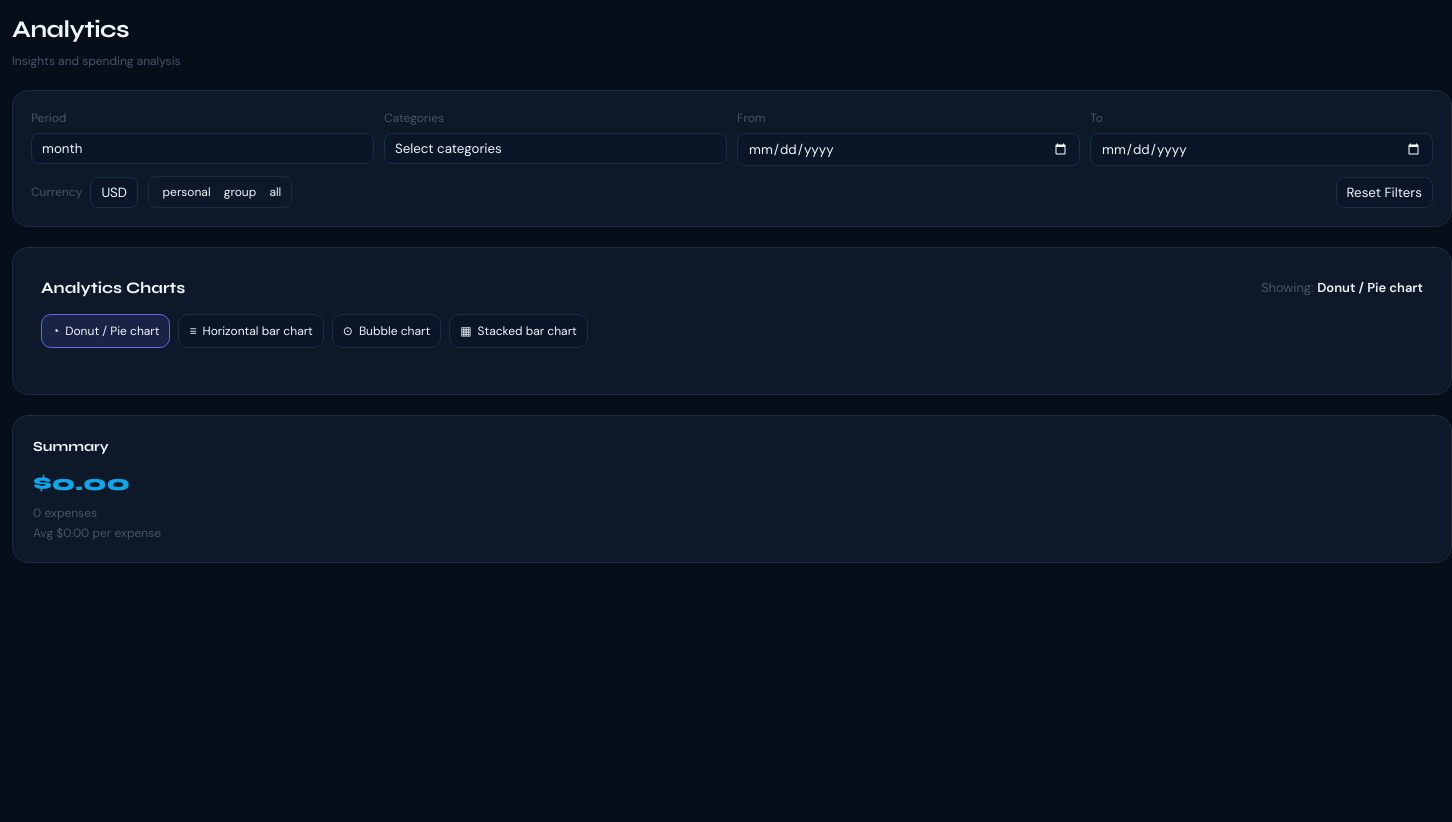
Test: Analytics Filters UI › shows check icon when category is selected and renders a removal tag
# Open dropdown
Click the button with aria-label "Categories filter" at (448, 148), box [384,133,727,164]
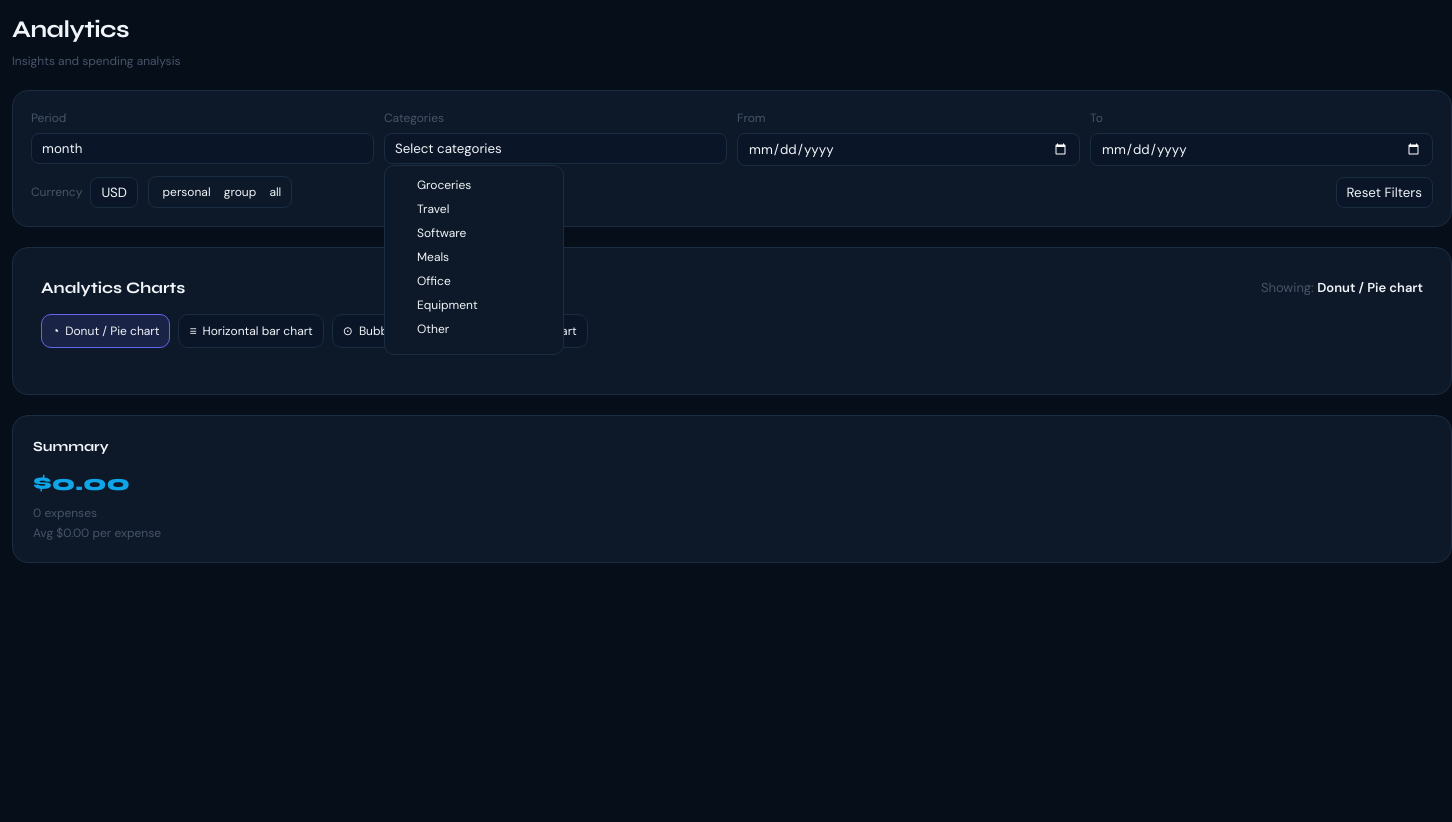
# Select 'Office' from the dropdown list
Click the checkbox "Office" at (434, 281), box [417,273,451,289]
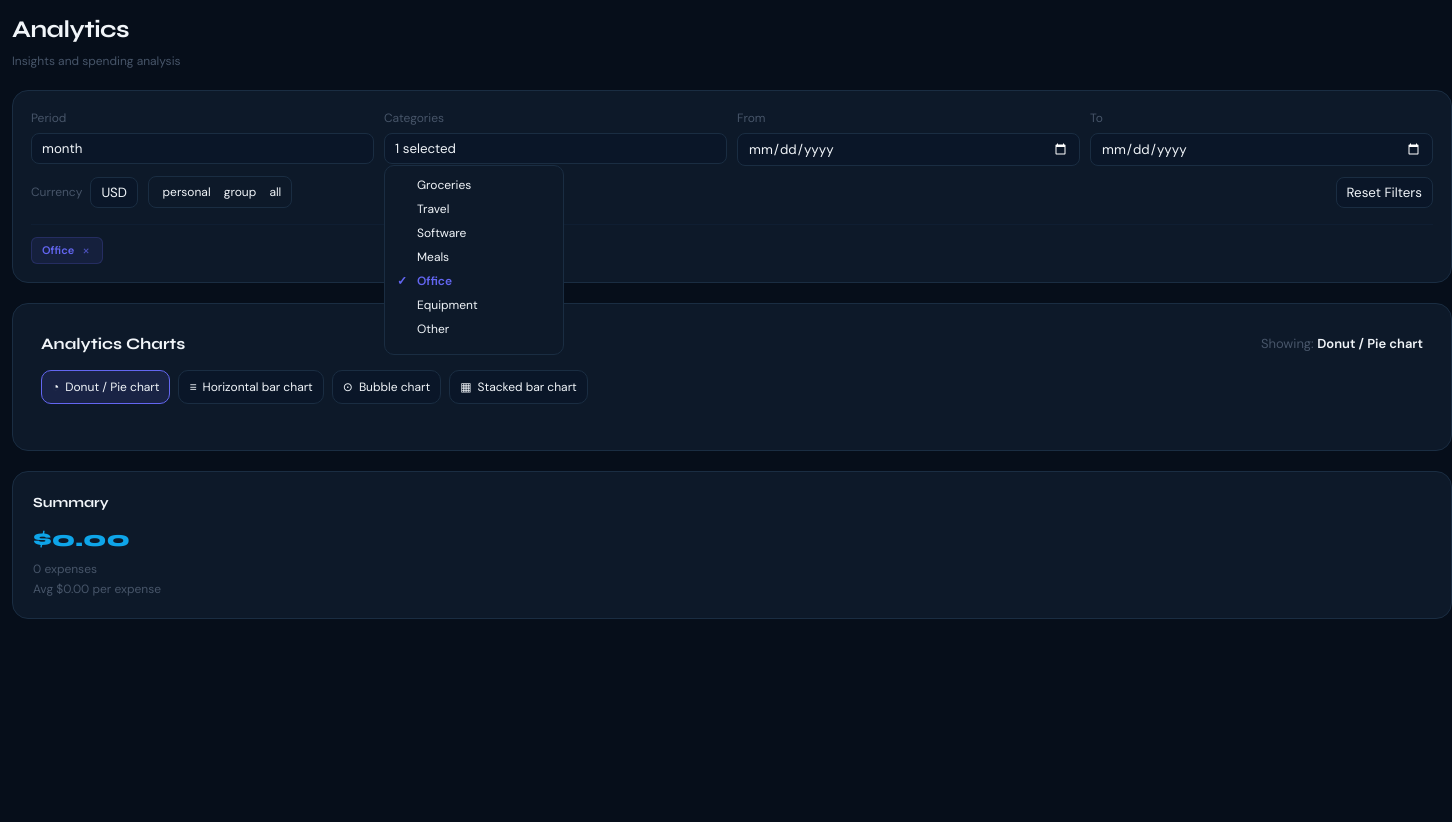
Now the text "✓" is shown, box [397,273,407,289]
Now the button named "Remove Office" is shown
# Remove via tag button
Click the button named "Remove Office" at (86, 250), box [80,243,92,257]
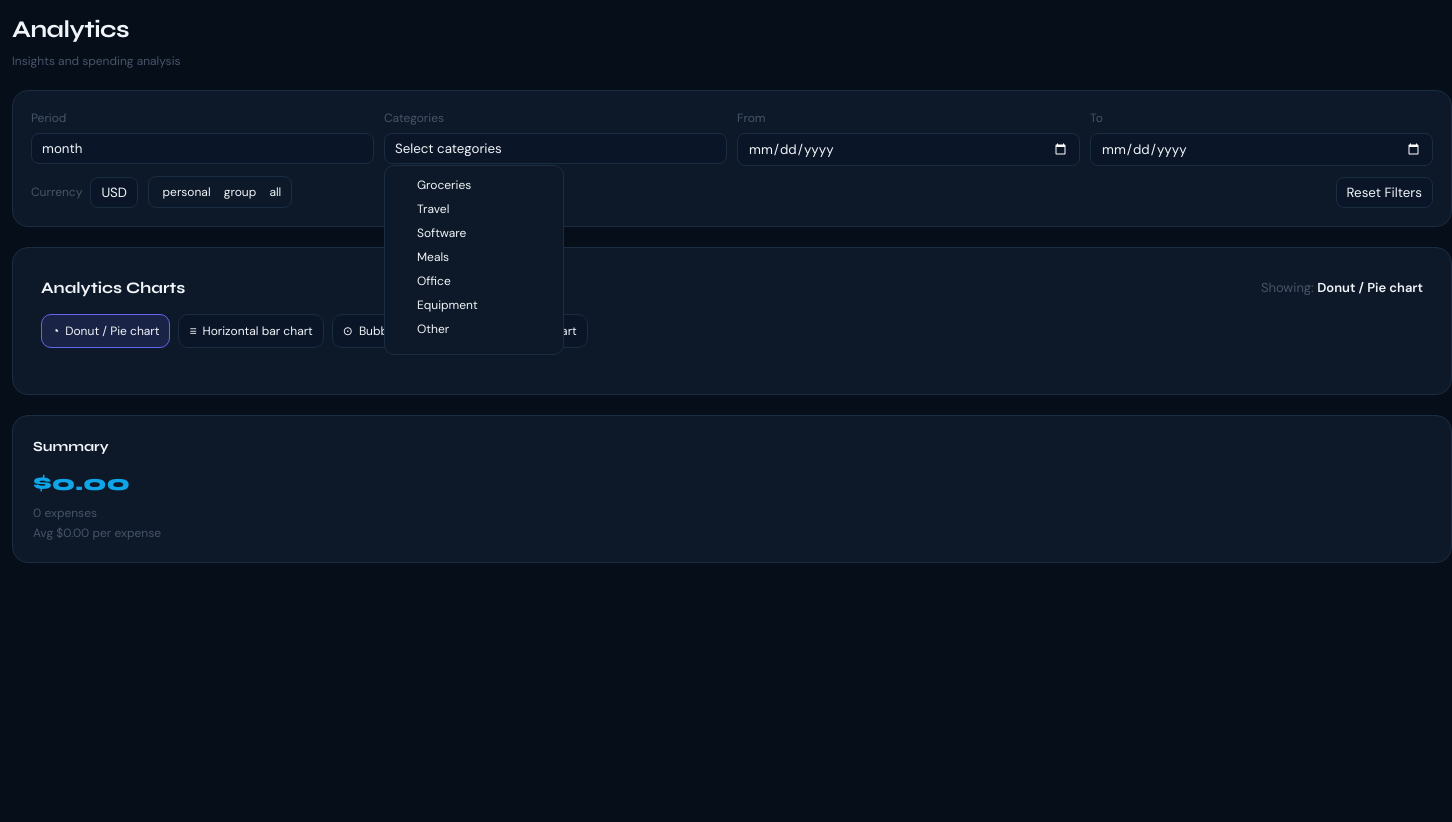
Now the text "✓" is gone
